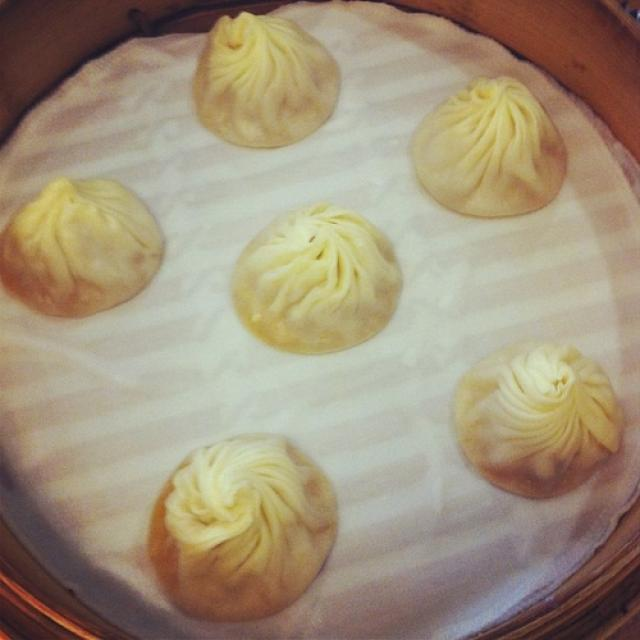带馅早点: (8, 10, 613, 616)
